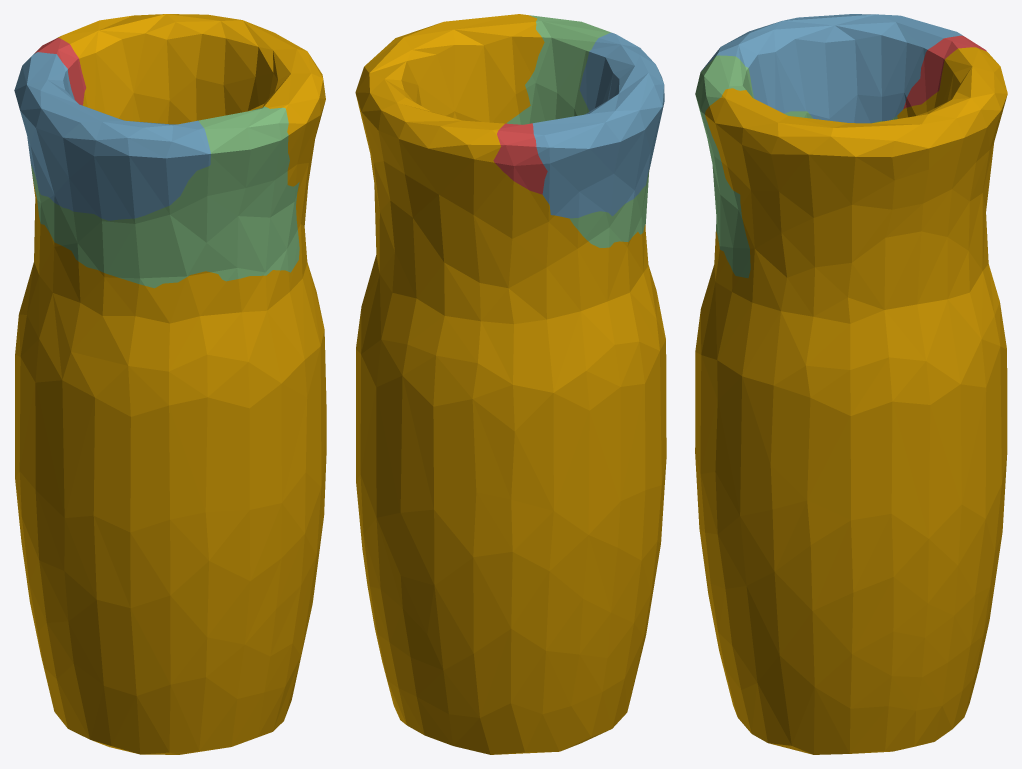
Rendered from fractured_0_4pcs.glb.
3 renders of one model, left to right at view 1: azimuth 30°, elevation 25°; view 2: azimuth 150°, elevation 25°; view 3: azimuth 270°, elevation 25°, orthographic.
Visible parts, largest first — view 1: piece_0.obj, piece_3.obj, piece_2.obj, piece_12.obj; view 2: piece_0.obj, piece_2.obj, piece_3.obj, piece_12.obj; view 3: piece_0.obj, piece_2.obj, piece_3.obj, piece_12.obj.
Boxes of the visible parts, bbox=[...] form: piece_0.obj: bbox=[15, 14, 326, 754]; piece_3.obj: bbox=[31, 106, 299, 288]; piece_2.obj: bbox=[14, 52, 210, 220]; piece_12.obj: bbox=[34, 38, 86, 105]; piece_0.obj: bbox=[355, 14, 666, 754]; piece_2.obj: bbox=[532, 32, 664, 218]; piece_3.obj: bbox=[506, 15, 649, 247]; piece_12.obj: bbox=[493, 123, 547, 194]; piece_0.obj: bbox=[695, 47, 1007, 754]; piece_2.obj: bbox=[701, 14, 962, 123]; piece_3.obj: bbox=[695, 55, 897, 278]; piece_12.obj: bbox=[903, 35, 986, 108].
Size of the model in its own units: 0.4439 by 1 by 0.444.
